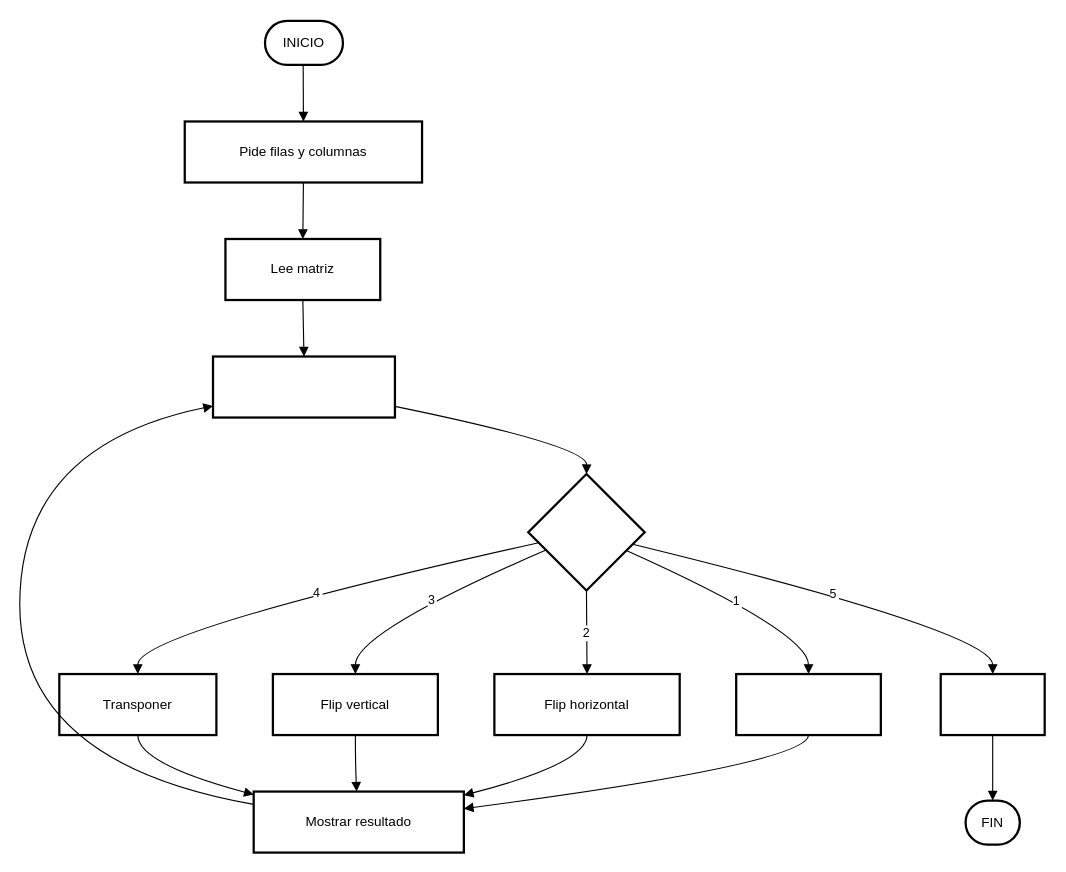
The diagram is 1066 pixels wide and 872 high, and some of its shapes have lost their labels. The shapes that lost their labels are listed below. From the top down, each one's box as (x1, y1, x2, y2) in pixels, then its label:
(211, 355, 395, 418): Muestra menú
(527, 472, 645, 591): Opción
(734, 672, 881, 736): Rotar 90°
(939, 672, 1045, 736): Salir
